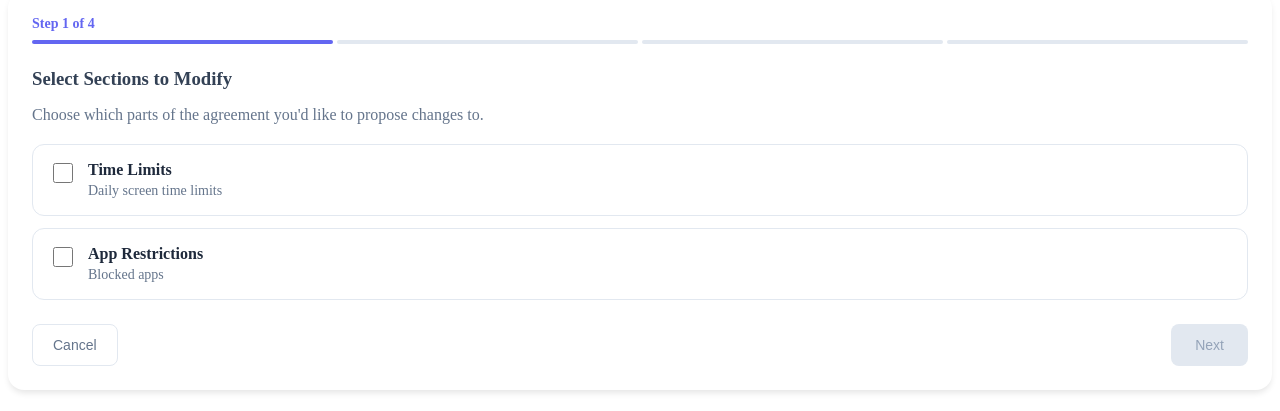
Test: AgreementProposalWizard - Story 34.1 › step navigation › should navigate to step 2 when next is clicked
The width and height of the screenshot is (1280, 411).
Click the checkbox labelled "Time Limits".
click(63, 173)  # box x1=53 y1=163 x2=73 y2=183
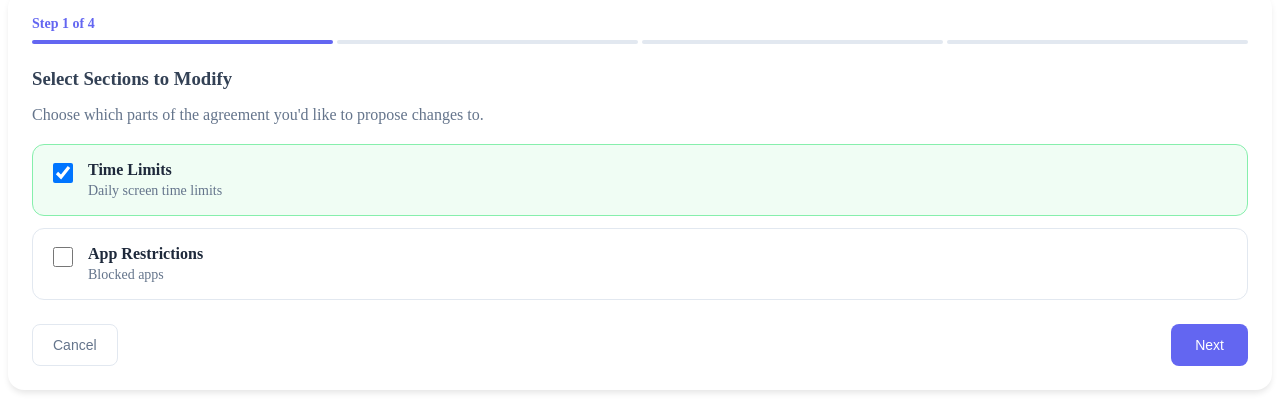
Click the button "Next".
click(1210, 345)  # box x1=1171 y1=324 x2=1248 y2=366
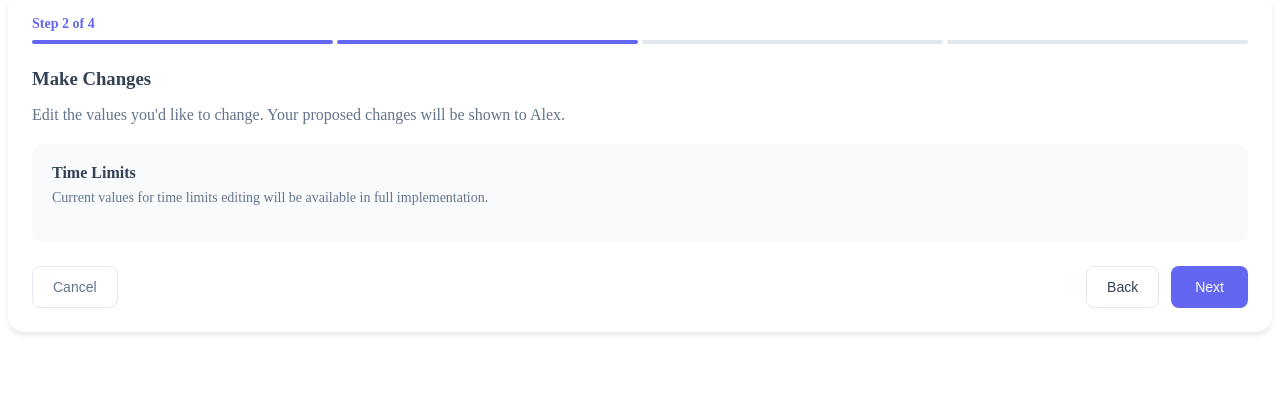
Now the text "Step 2 of 4" is shown, box x1=32 y1=16 x2=95 y2=32
Now the heading "Make Changes" is shown, box x1=32 y1=68 x2=151 y2=89
